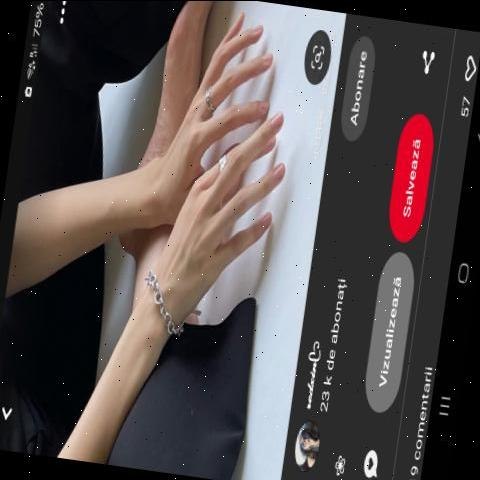Hands: (140, 100, 314, 334), (132, 1, 274, 229)
